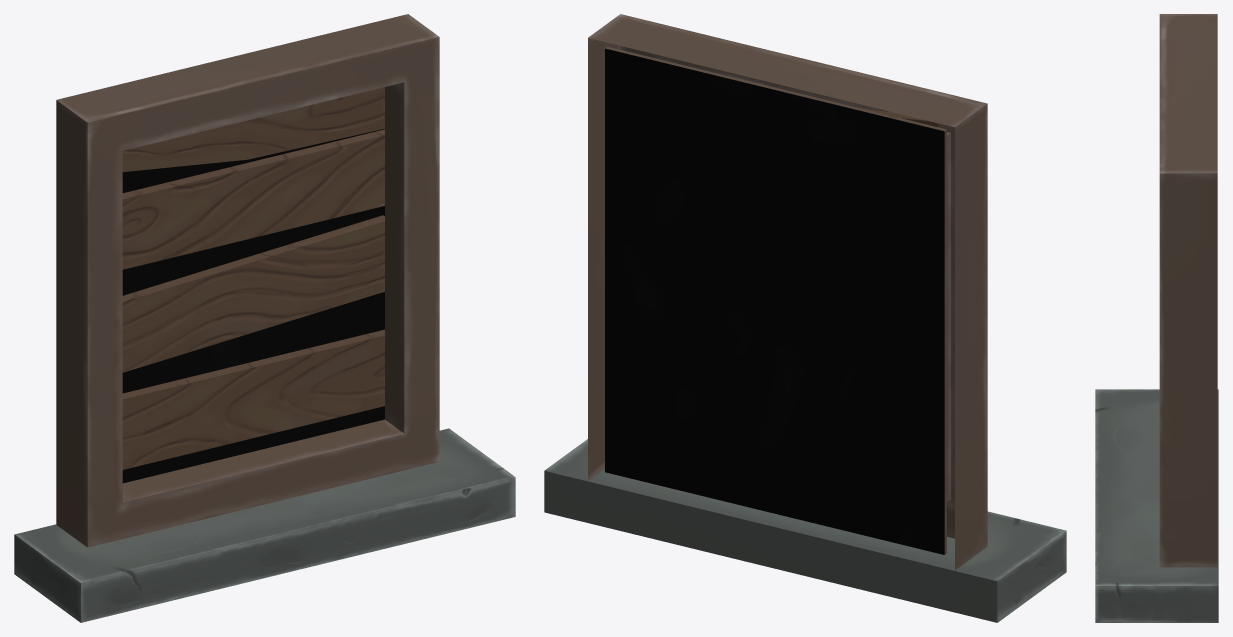
File: ventana.glb
The picture shows the model from 3 angles, left to right: view 1: azimuth 30°, elevation 25°; view 2: azimuth 150°, elevation 25°; view 3: azimuth 270°, elevation 25°; orthographic projection. The views are drawn at different scales.
Visible parts, largest first — view 1: Cube; view 2: Cube; view 3: Cube.
Part boxes in pixels (box(x1,y1,x2,y2)): Cube: box(14, 14, 515, 622); Cube: box(544, 14, 1066, 622); Cube: box(1095, 14, 1218, 622).
Size of the model in its own units: 2.91 by 2.97 by 0.7692.
1 material, 1 textured.
